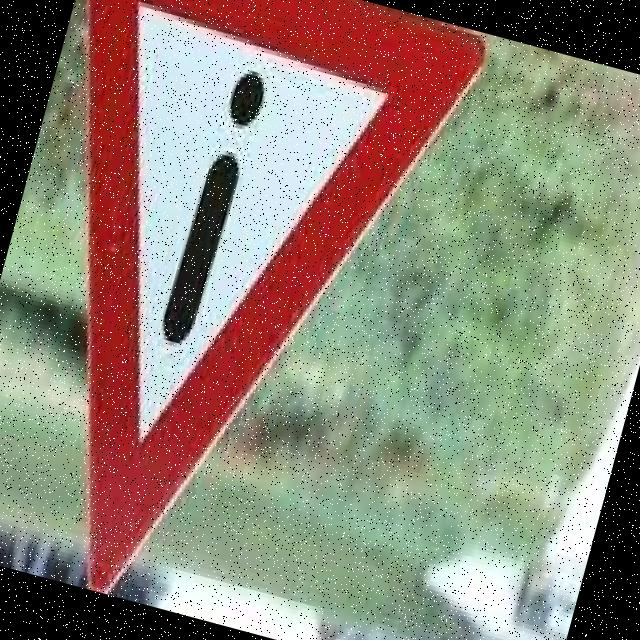warning: (0, 0, 493, 640)
